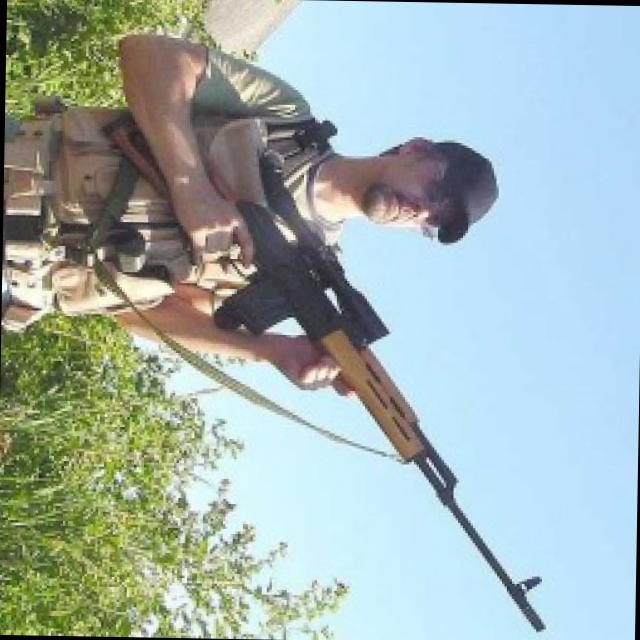long weapon: (69, 43, 575, 639)
